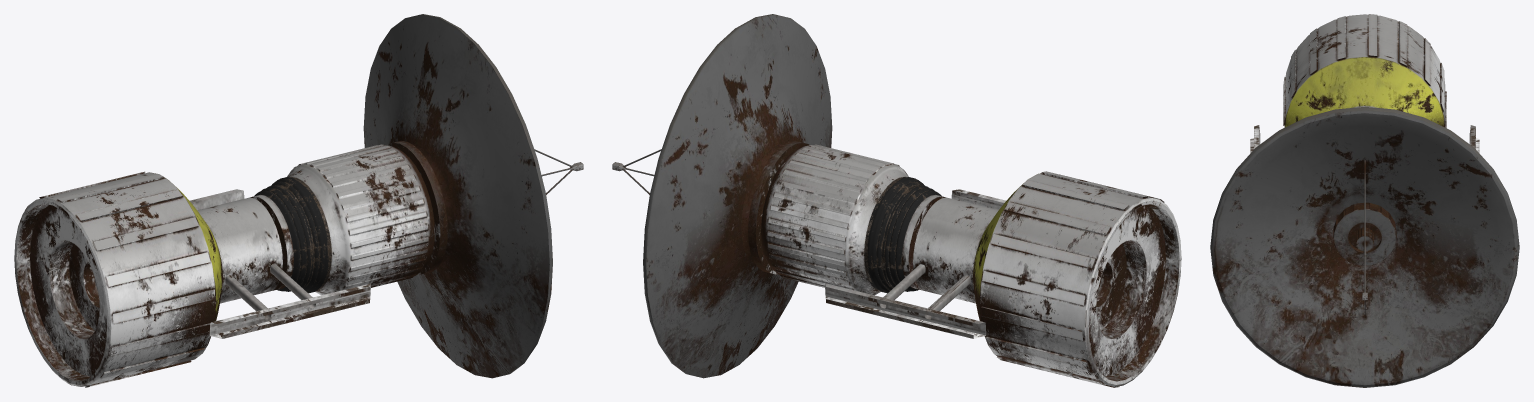
Rendered from satelite_02_cuerpo.obj.
3 views of the same model, side by side, from view 1: azimuth 30°, elevation 25°; view 2: azimuth 150°, elevation 25°; view 3: azimuth 270°, elevation 25° (orthographic). The views are drawn at different scales.
Parts seen in each view (by area): view 1: orbital2_cuerpo; view 2: orbital2_cuerpo; view 3: orbital2_cuerpo.
Part boxes in pixels (x1,y1,x2,y2): orbital2_cuerpo: (14, 14, 583, 387); orbital2_cuerpo: (612, 14, 1181, 387); orbital2_cuerpo: (1210, 14, 1519, 387).
Bounding box in the file's own units: 1.14 × 0.7079 × 0.7079.
Materials: 5 (5 with a texture image).
